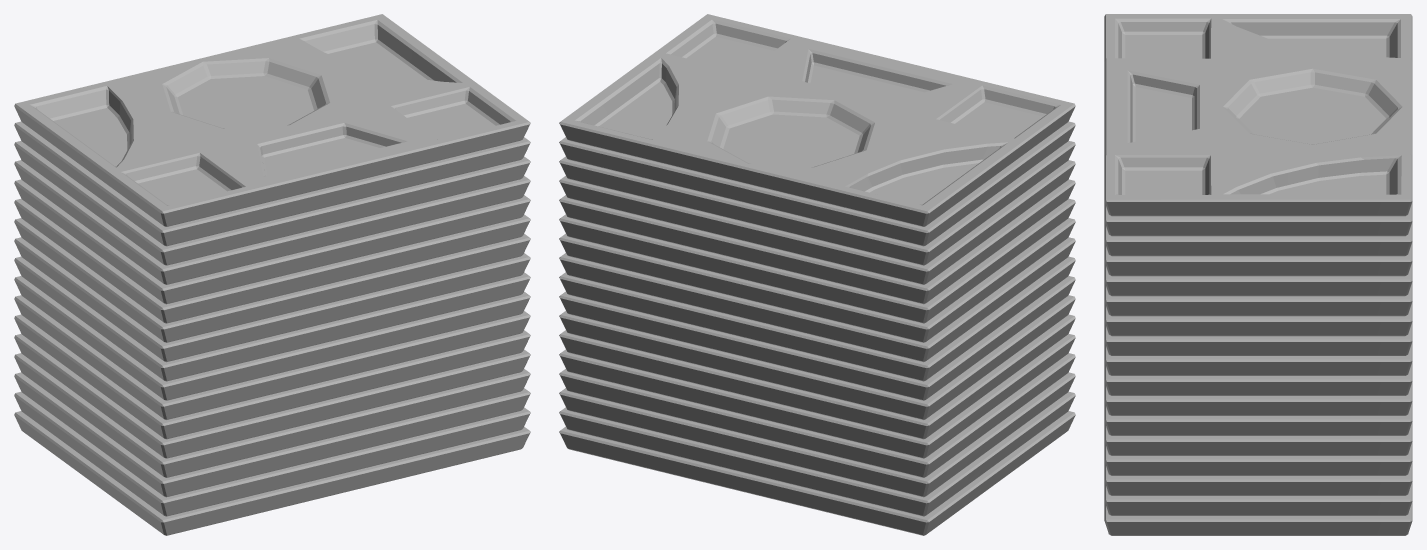
File: cafeteria-tray-stack.glb
The picture shows the model from 3 angles, left to right: view 1: azimuth 30°, elevation 25°; view 2: azimuth 150°, elevation 25°; view 3: azimuth 270°, elevation 25°; orthographic projection. The views are drawn at different scales.
Parts seen in each view (by area): view 1: Object_98; view 2: Object_98; view 3: Object_98.
Boxes of the visible parts, x1,y1,x2,y2 form: Object_98: (14, 14, 530, 535); Object_98: (559, 14, 1075, 535); Object_98: (1104, 14, 1412, 535).
Size of the model in its own units: 0.6521 by 0.5525 by 0.4541.
Materials: 1 (1 with a texture image).
